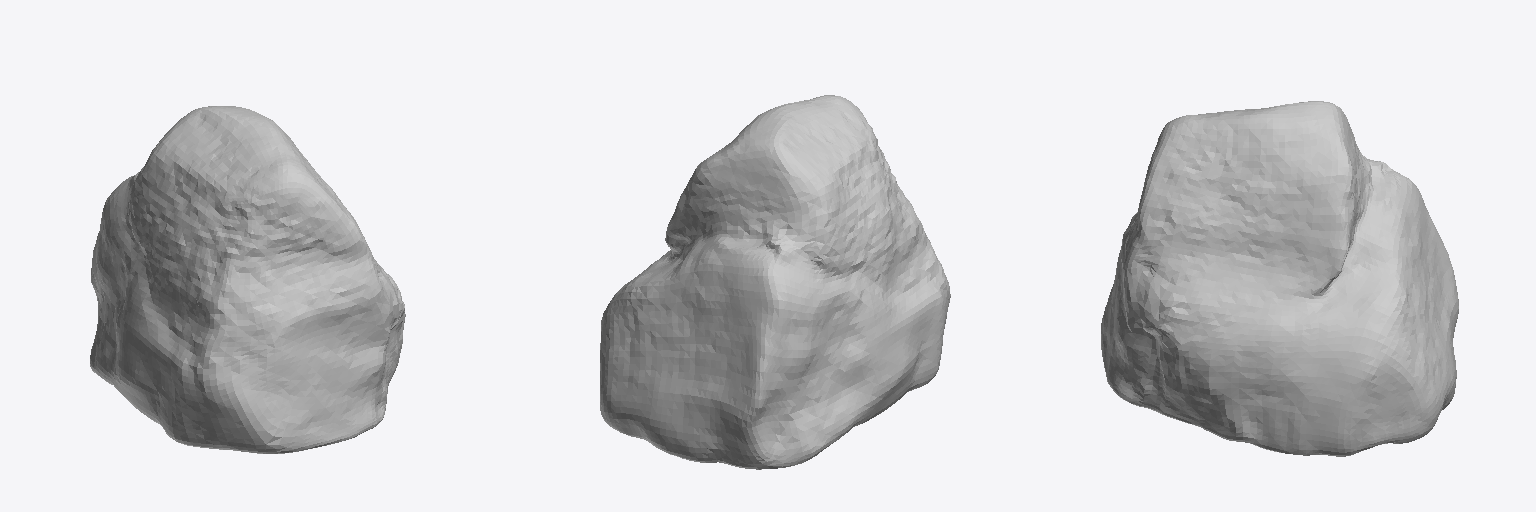
Rendered from 0a0573a7966f_Moss_growing_on_a_r.obj.
3 views of the same model, side by side, from view 1: azimuth 30°, elevation 25°; view 2: azimuth 150°, elevation 25°; view 3: azimuth 270°, elevation 25° (orthographic).
Parts seen in each view (by area): view 1: mesh; view 2: mesh; view 3: mesh.
Boxes of the visible parts, x1=… form: mesh: x1=90, y1=106, x2=405, y2=453; mesh: x1=600, y1=95, x2=950, y2=469; mesh: x1=1101, y1=101, x2=1458, y2=456.
Size of the model in its own units: 0.8385 by 0.8739 by 0.9995.